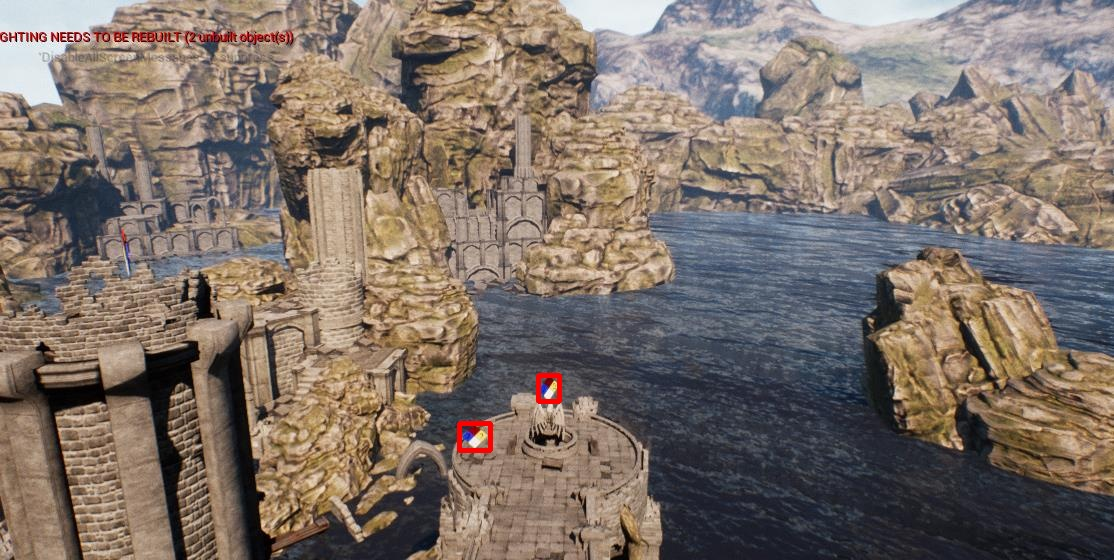nfpa: (459, 423, 490, 450), (538, 375, 559, 401)
